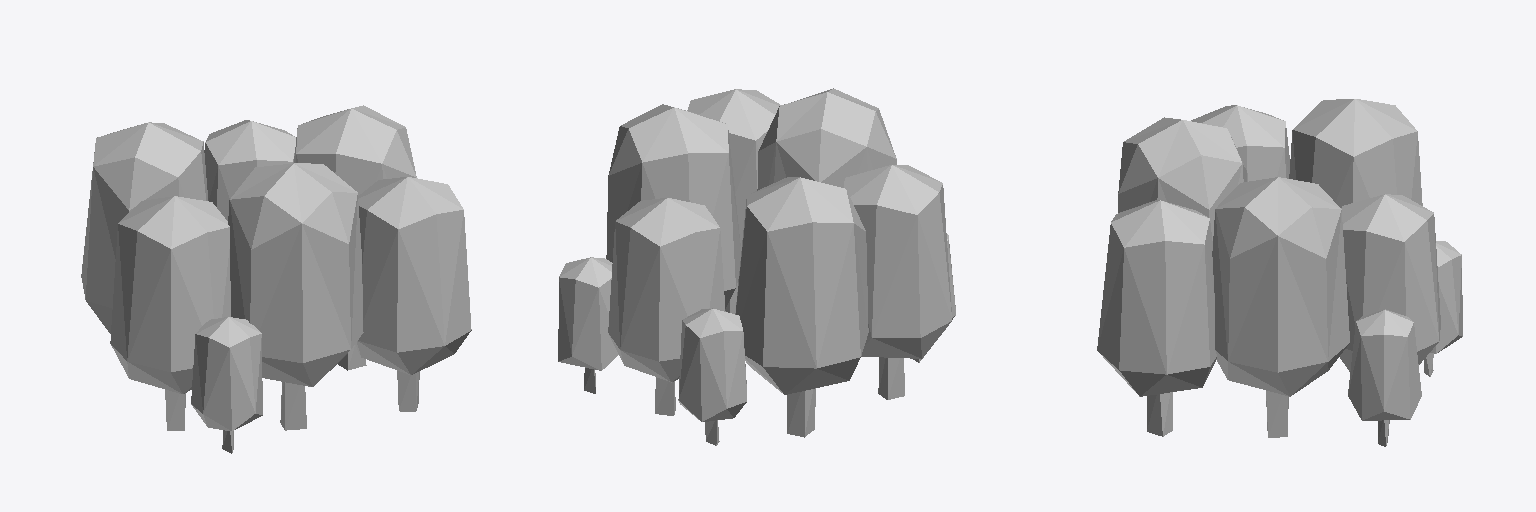
The model's file is ForestS_2.obj.
3 views of the same model, side by side, from view 1: azimuth 30°, elevation 25°; view 2: azimuth 150°, elevation 25°; view 3: azimuth 270°, elevation 25° (orthographic).
Visible parts, largest first — view 1: Center; view 2: Center; view 3: Center.
Boxes of the visible parts, x1,y1,x2,y2 form: Center: [81, 105, 471, 453]; Center: [558, 88, 955, 445]; Center: [1097, 99, 1462, 446].
Size of the model in its own units: 1.04 by 0.8296 by 1.05.